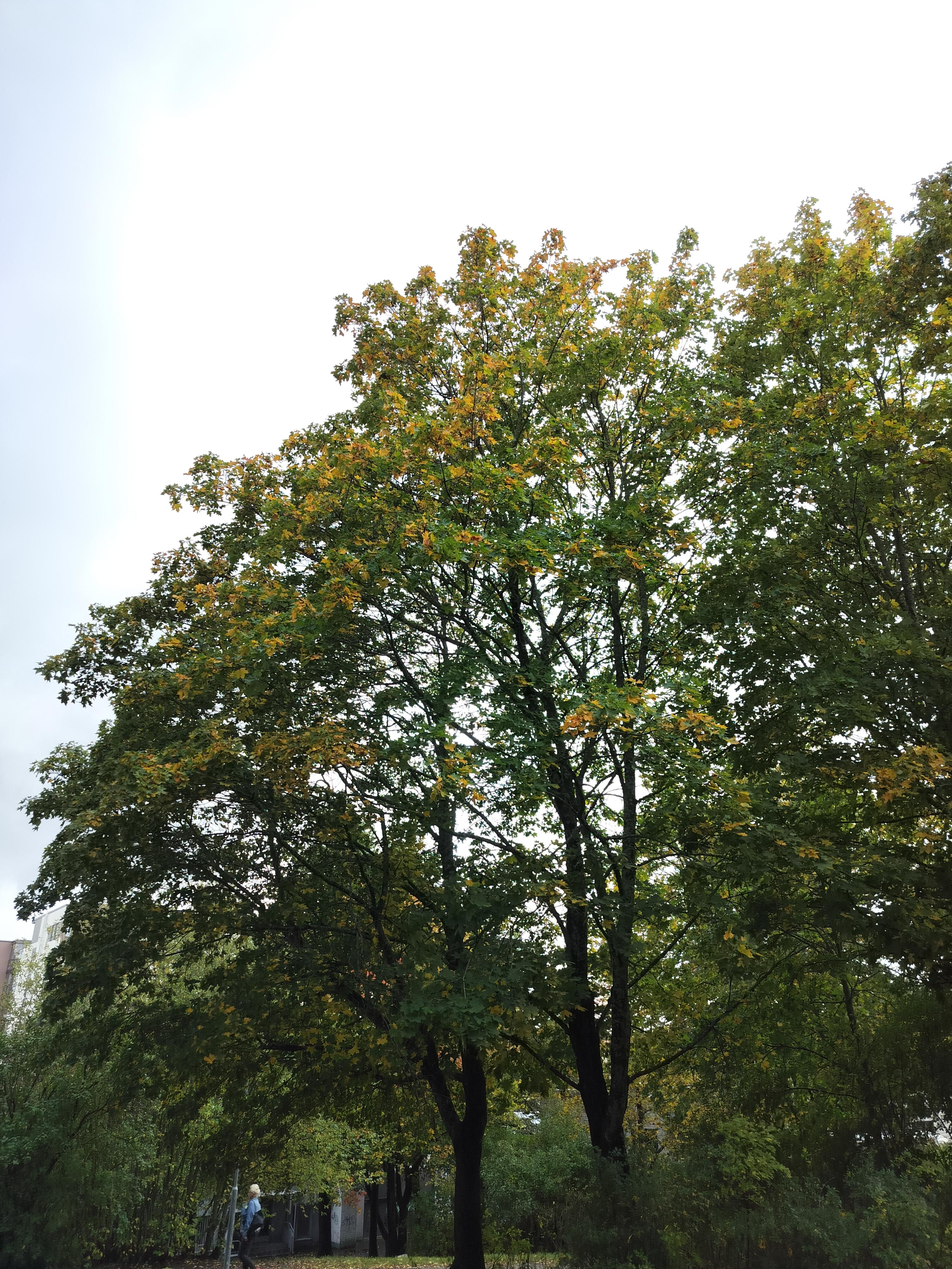Maple: (320, 195, 952, 1140), (425, 164, 742, 1236)
